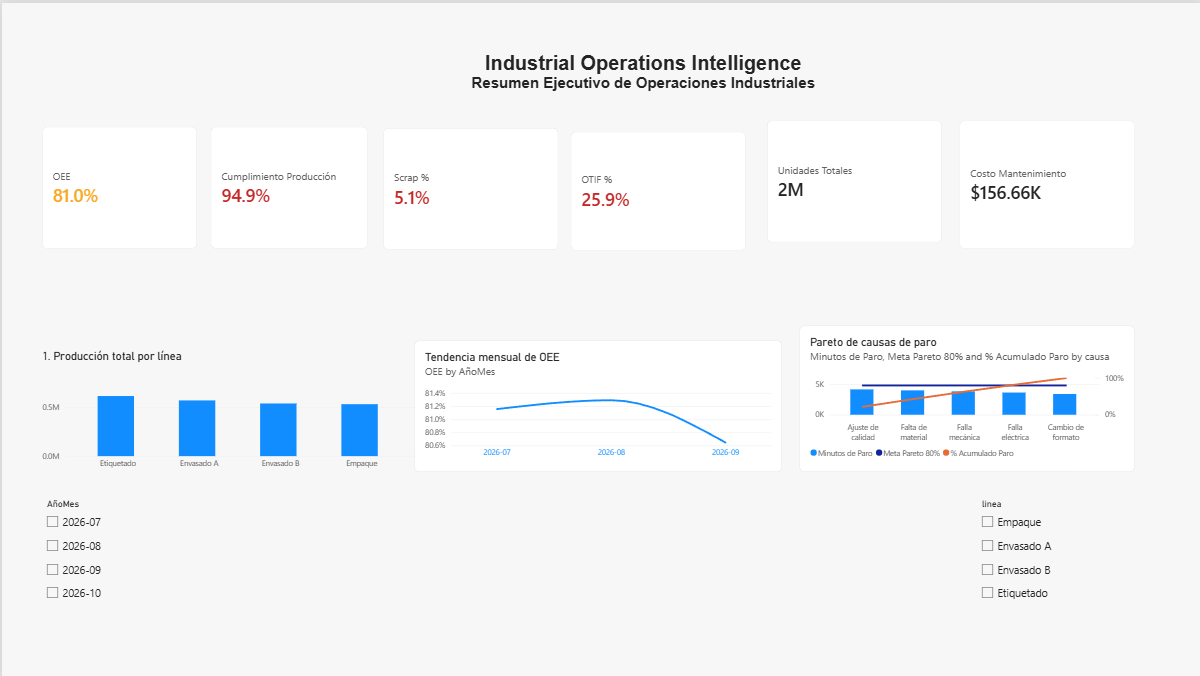

The page's visual inventory and layout, read from the dashboard file:
{"tool":"powerbi","page":{"name":"Resumen Ejecutivo","canvas":[1920,1080],"ordinal":0},"visuals":[{"type":"cardVisual","fields":{"Data":["Medidas.OEE"]},"box":[64,198,248.3,195],"z":0},{"type":"cardVisual","fields":{"Data":["Medidas.Cumplimiento Producción"]},"box":[334,198,251.7,195],"z":1000},{"type":"cardVisual","fields":{"Data":["Medidas.Scrap %"]},"box":[610,200,280,195],"z":2000},{"type":"cardVisual","fields":{"Data":["Medidas.OTIF %"]},"box":[910,206,280,190],"z":3000},{"type":"cardVisual","fields":{"Data":["Medidas.Unidades Totales"]},"box":[1224,188,280,195],"z":4000},{"type":"cardVisual","fields":{"Data":["Medidas.Costo Mantenimiento"]},"box":[1532,188,280,205],"z":5000},{"type":"textbox","box":[660,78,732,92],"z":6000},{"type":"clusteredColumnChart","title":"Producción total por línea","fields":{"Category":["DimLinea.linea"],"Y":["Medidas.Unidades Totales"]},"box":[64,554,596,196],"z":7000},{"type":"lineChart","title":"Tendencia mensual de OEE","fields":{"Category":["DimFecha.AñoMes"],"Y":["Medidas.OEE"]},"box":[660,540,588,210],"z":8000},{"type":"lineClusteredColumnComboChart","title":"Pareto de causas de paro","fields":{"Category":["T_Paros.causa"],"Y":["Medidas.Minutos de Paro"],"Y2":["Medidas.Meta Pareto 80%","Medidas.% Acumulado Paro"]},"box":[1276,516,536,234],"z":9000},{"type":"slicer","fields":{"Values":["DimFecha.AñoMes"]},"box":[64,792,248,207],"z":10000},{"type":"slicer","fields":{"Values":["DimLinea.linea"]},"box":[1560,792,252,207],"z":11000}]}

Visuals, with their boxes in screenshot pixels (x1, y1, x2, y2), scaled from the page's 1920x1080 canvas onto the 1200x676 screenshot:
cardVisual - Medidas.OEE: <bbox>40, 124, 195, 246</bbox>
cardVisual - Medidas.Cumplimiento Producción: <bbox>209, 124, 366, 246</bbox>
cardVisual - Medidas.Scrap %: <bbox>381, 125, 556, 247</bbox>
cardVisual - Medidas.OTIF %: <bbox>569, 129, 744, 248</bbox>
cardVisual - Medidas.Unidades Totales: <bbox>765, 118, 940, 240</bbox>
cardVisual - Medidas.Costo Mantenimiento: <bbox>958, 118, 1132, 246</bbox>
textbox: <bbox>412, 49, 870, 106</bbox>
"Producción total por línea" clusteredColumnChart: <bbox>40, 347, 412, 469</bbox>
"Tendencia mensual de OEE" lineChart: <bbox>412, 338, 780, 469</bbox>
"Pareto de causas de paro" lineClusteredColumnComboChart: <bbox>798, 323, 1132, 469</bbox>
slicer - DimFecha.AñoMes: <bbox>40, 496, 195, 625</bbox>
slicer - DimLinea.linea: <bbox>975, 496, 1132, 625</bbox>
